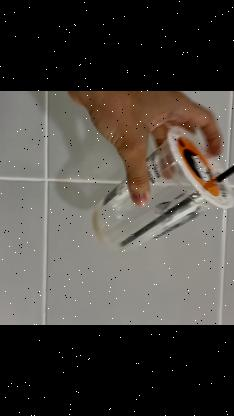Others: (90, 127, 234, 254)
